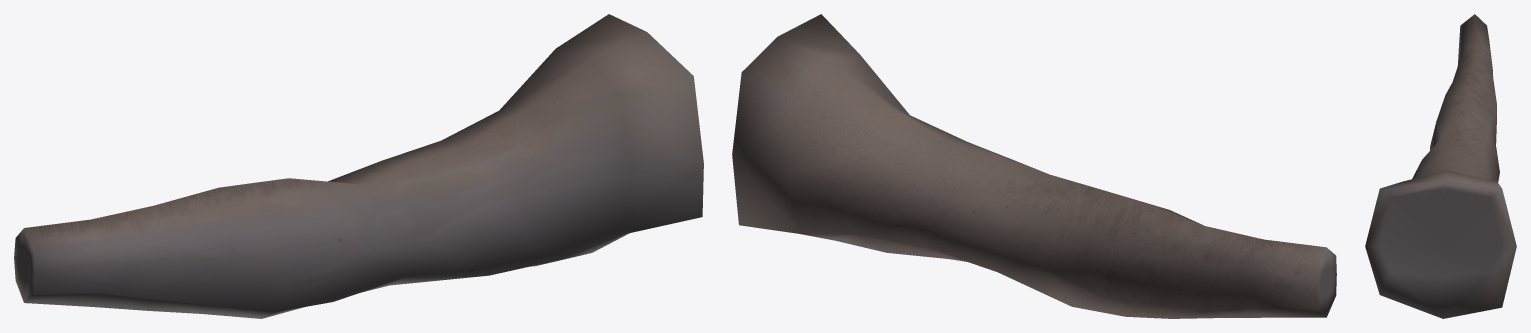
The model's file is Arms_LR208.fbx.
3 views of the same model, side by side, from view 1: azimuth 30°, elevation 25°; view 2: azimuth 150°, elevation 25°; view 3: azimuth 270°, elevation 25° (orthographic). The views are drawn at different scales.
Parts seen in each view (by area): view 1: Arm1; view 2: Arm1; view 3: Arm1.
Boxes of the visible parts, <box> form: Arm1: <box>14,14,703,318</box>; Arm1: <box>732,14,1336,318</box>; Arm1: <box>1365,14,1516,318</box>.
Bounding box in the file's own units: 6.02 × 1.92 × 1.79.
